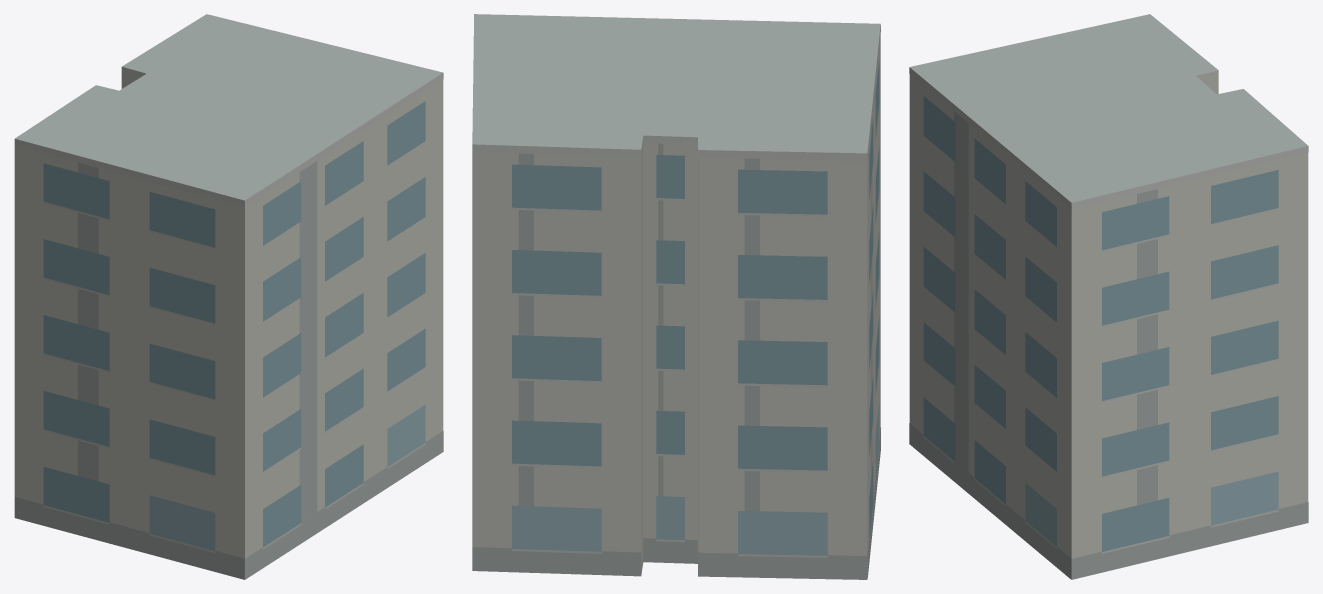
File: survey-upis-32515133.glb
The picture shows the model from 3 angles, left to right: view 1: azimuth 30°, elevation 25°; view 2: azimuth 150°, elevation 25°; view 3: azimuth 270°, elevation 25°; orthographic projection. The views are drawn at different scales.
Parts seen in each view (by area): view 1: survey-upis-32515133.tmp; view 2: survey-upis-32515133.tmp; view 3: survey-upis-32515133.tmp.
Boxes of the visible parts, x1,y1,x2,y2 form: survey-upis-32515133.tmp: [14, 14, 443, 579]; survey-upis-32515133.tmp: [472, 14, 880, 579]; survey-upis-32515133.tmp: [909, 14, 1308, 579].
Bounding box in the file's own units: 14.51 × 13.5 × 12.96.
